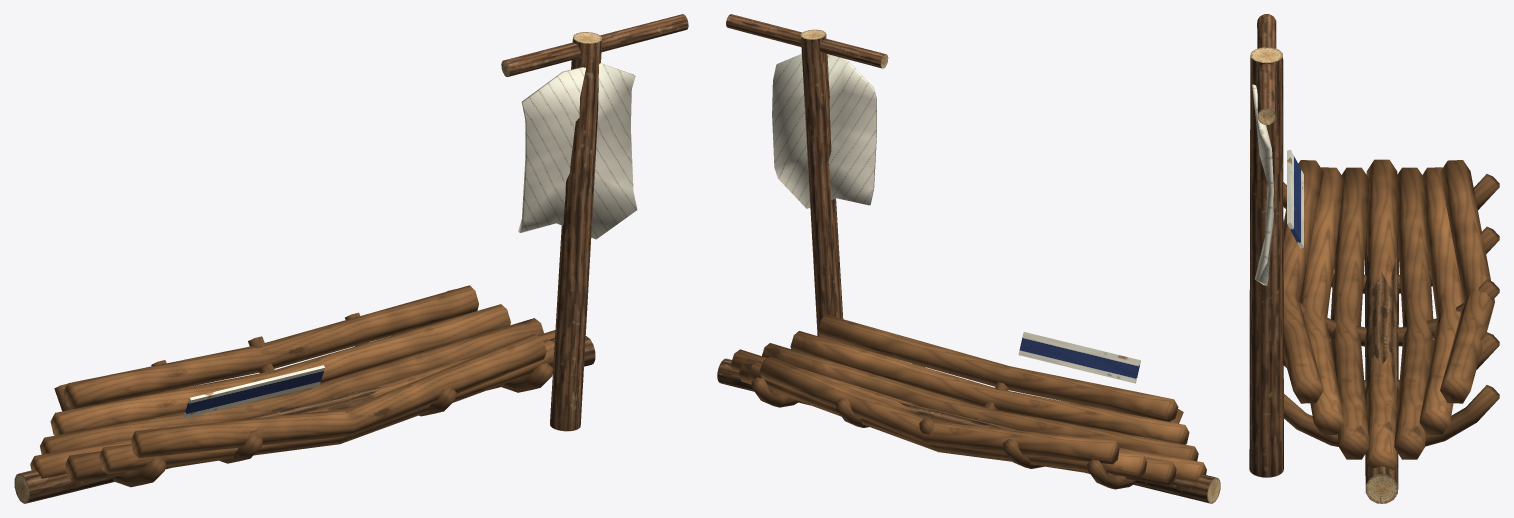
Rendered from boat_wreck.glb.
The picture shows the model from 3 angles, left to right: view 1: azimuth 30°, elevation 25°; view 2: azimuth 150°, elevation 25°; view 3: azimuth 270°, elevation 25°; orthographic projection. The views are drawn at different scales.
Visible parts, largest first — view 1: Wreck; view 2: Wreck; view 3: Wreck.
Part boxes in pixels (x1,y1,x2,y2): Wreck: (14,14,688,503); Wreck: (717,14,1220,503); Wreck: (1249,14,1499,503).
Size of the model in its own units: 4.1 by 2.46 by 1.3.
Materials: 1 (1 with a texture image).
